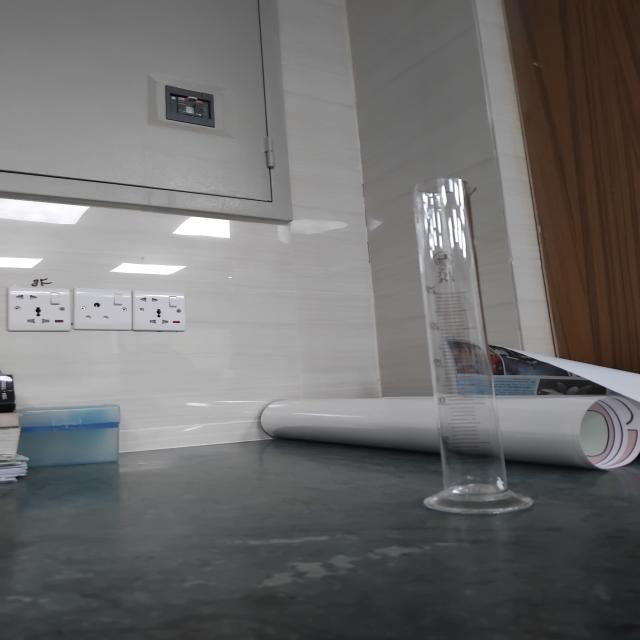Measuring_Cylinder: (353, 132, 570, 541)
